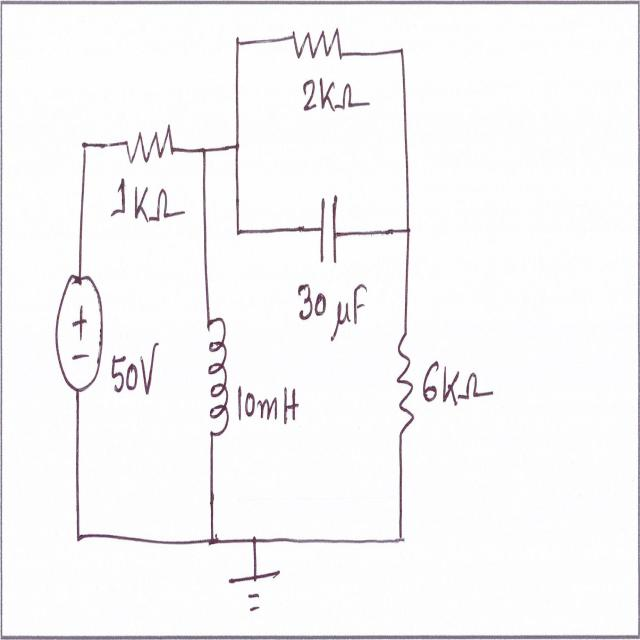capacitor: (316, 184, 341, 276)
ground: (224, 564, 284, 622)
inductor: (204, 310, 232, 455)
resistor: (288, 17, 347, 73), (393, 318, 417, 450), (121, 115, 176, 172)
voltage_source: (53, 262, 106, 400)
